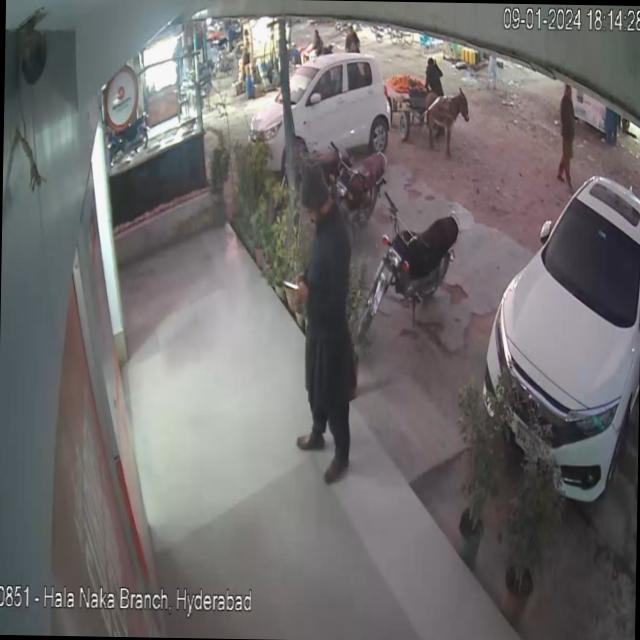Car: (477, 127, 640, 515), (228, 37, 396, 162)
Motorcycle: (356, 180, 470, 346), (325, 140, 393, 233)
